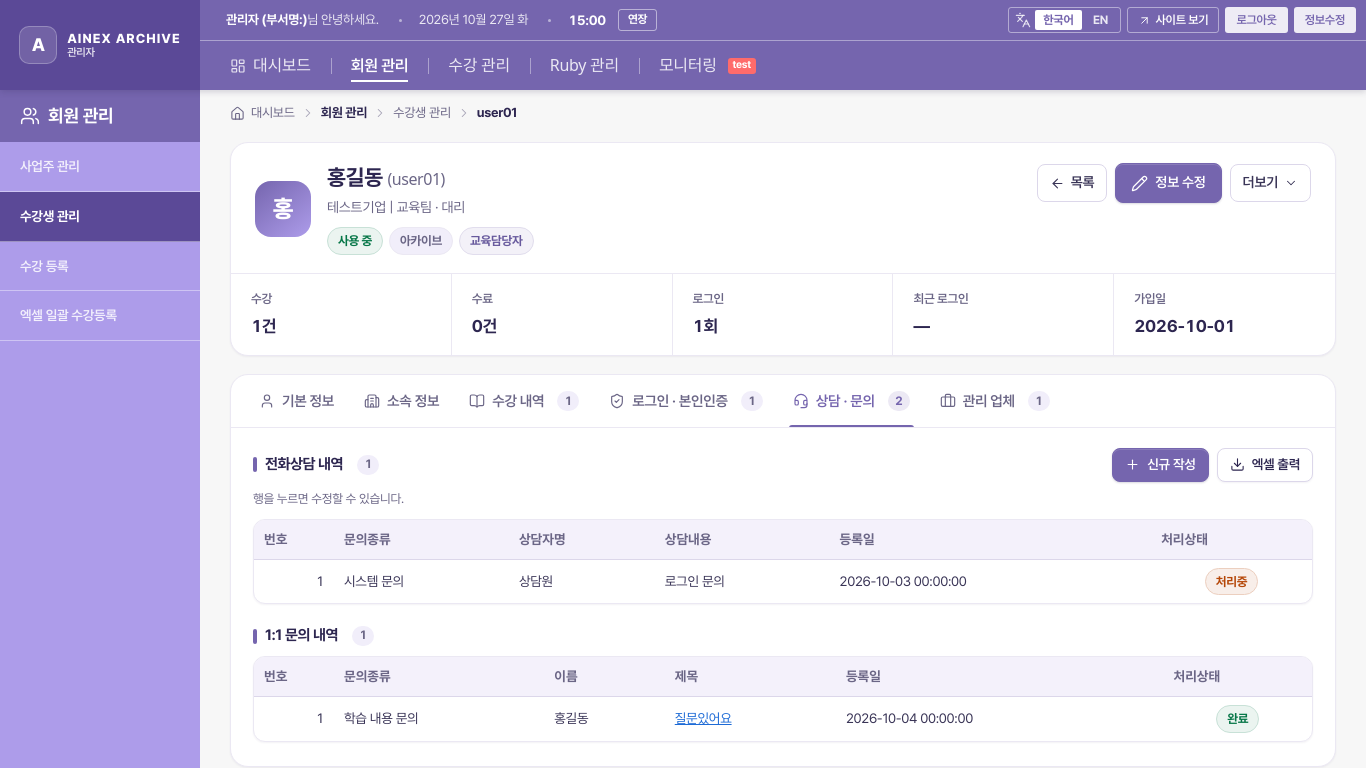
Test: 수강생 관리 parity › 1:1 문의 제목 opens that inquiry (qna_read.php?idx=) in a drawer; the answer link goes to 1:1 상담문의 with ?open=
The image size is (1366, 768).
What coordinates should you click on to do the following:
click the button "질문있어요"
I would click on:
 (703, 719)
Its box is [675, 707, 732, 730].
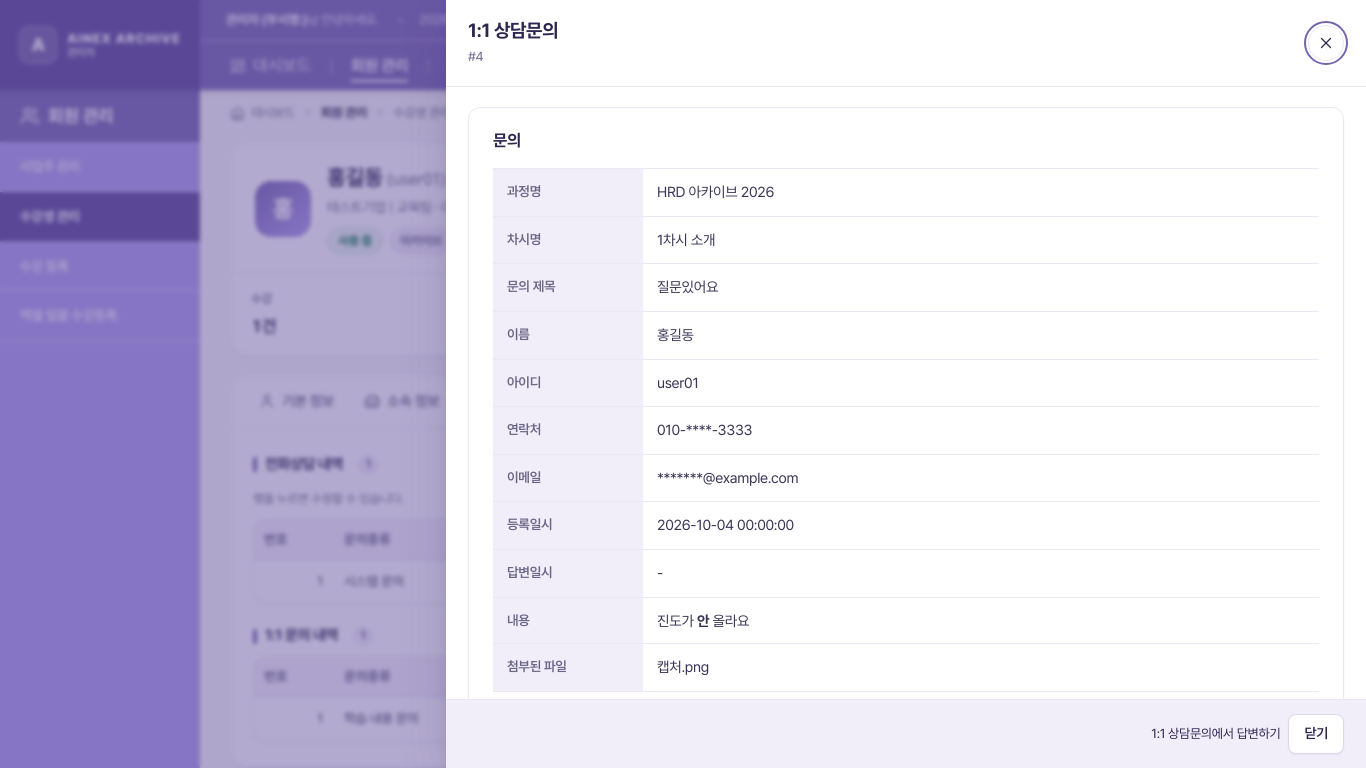
Check: the text "1차시 소개" is shown, box [643, 217, 1319, 264]
Check: the text "HRD 아카이브 2026" is shown, box [643, 169, 1319, 216]
Check: the text "010-****-3333" is shown, box [643, 407, 1319, 455]
